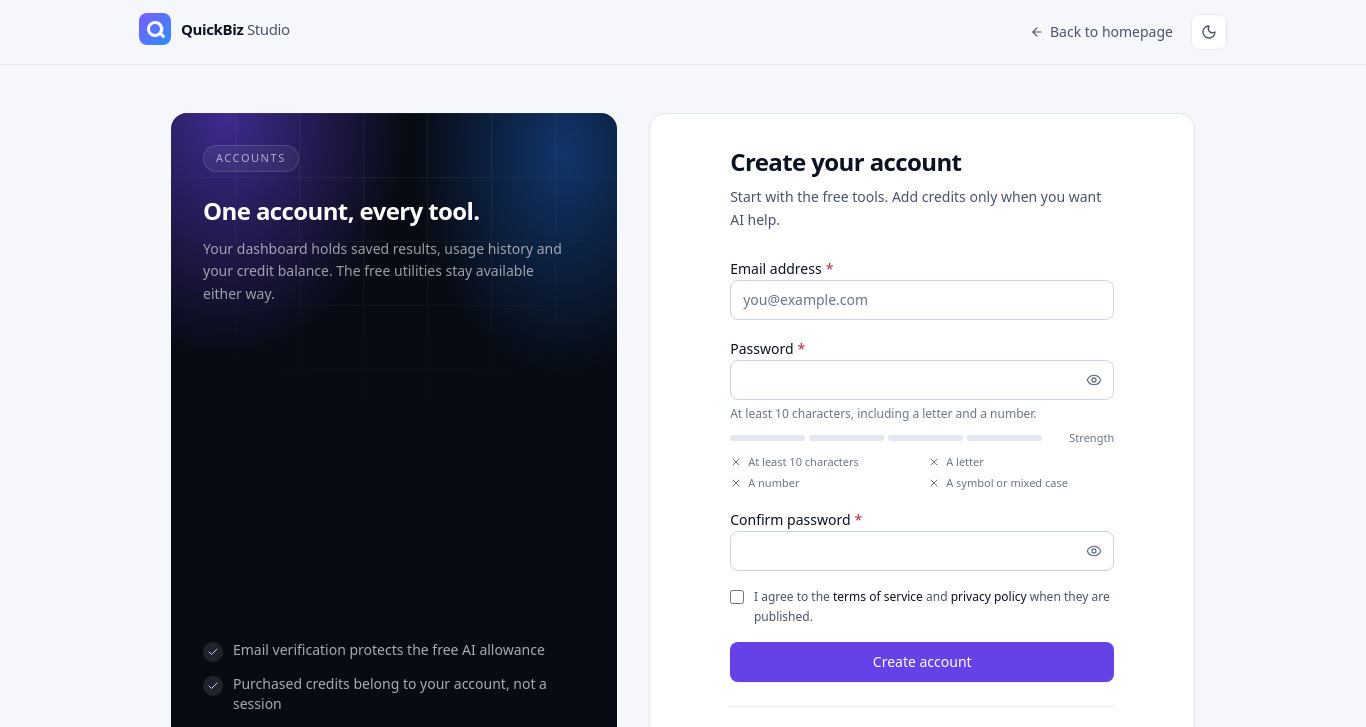
Test: RegisterPage › shows a typed failure when the provider rejects the signup
In the field labelled "Email address*": coordinates (922, 300) [730,280,1114,320], type "  Ada@Example.com "
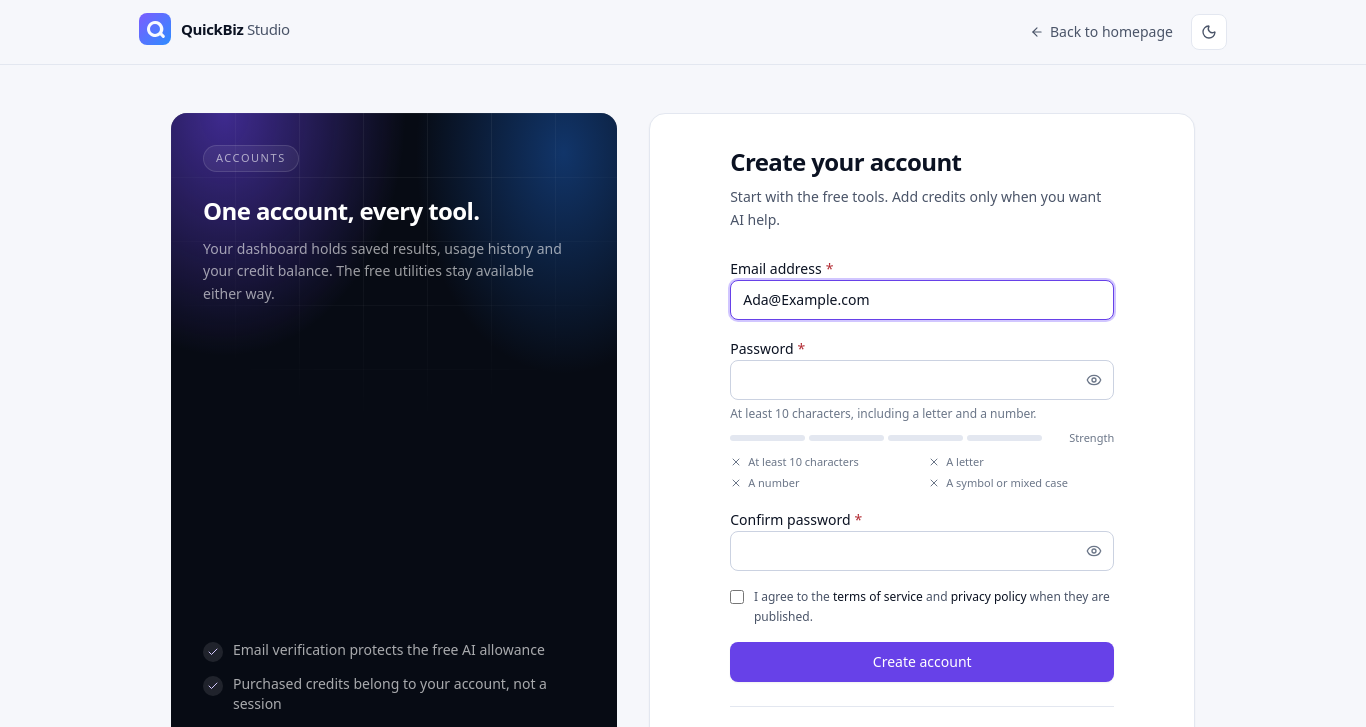
In the password field labelled "Password*": coordinates (922, 380) [730,360,1114,400], type "correct-horse-1"
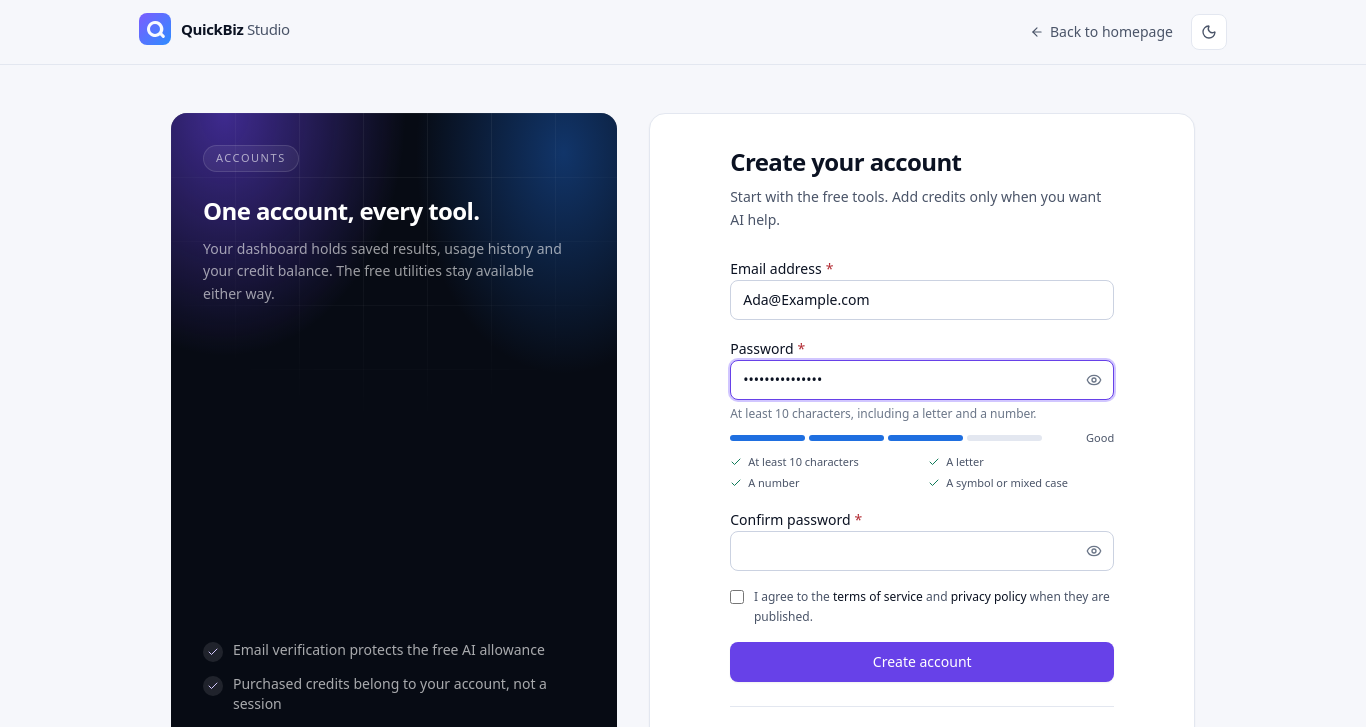
In the password field labelled "Confirm password*": coordinates (922, 551) [730,531,1114,571], type "correct-horse-1"
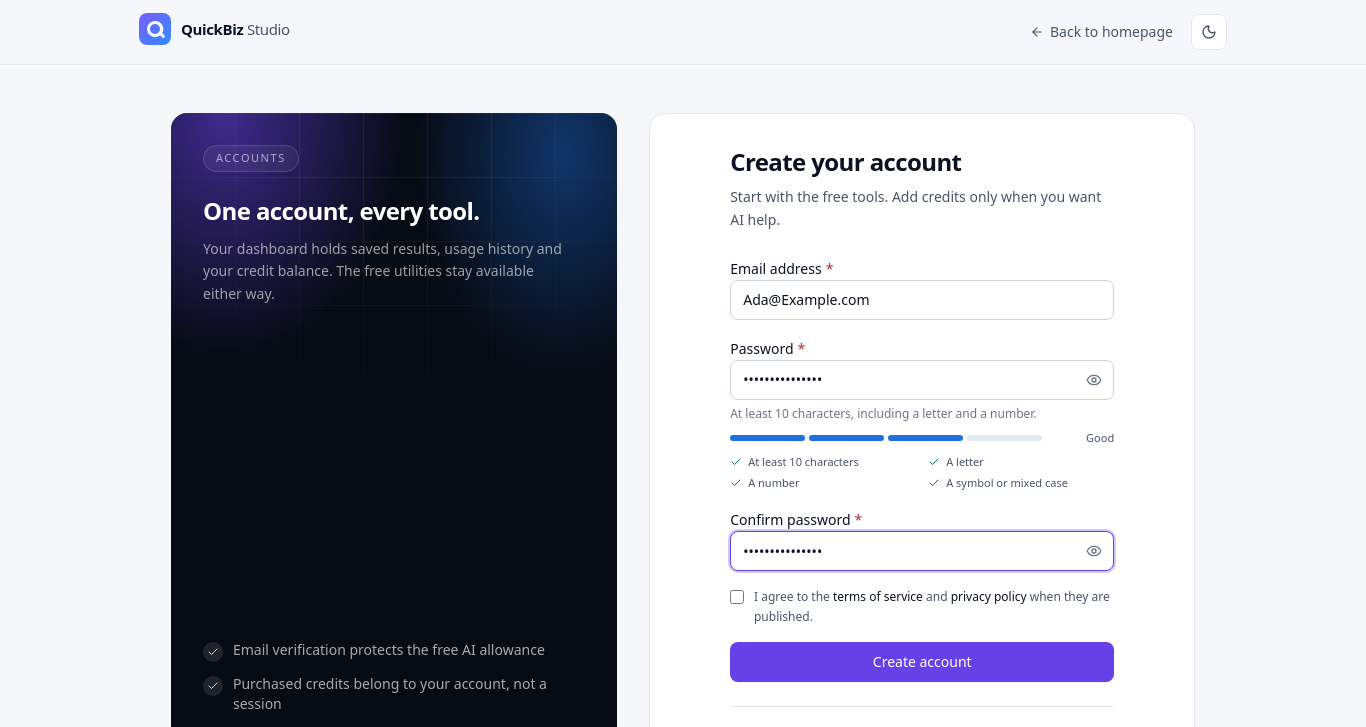
Click the checkbox: coordinates (737, 597) [730,589,744,605]
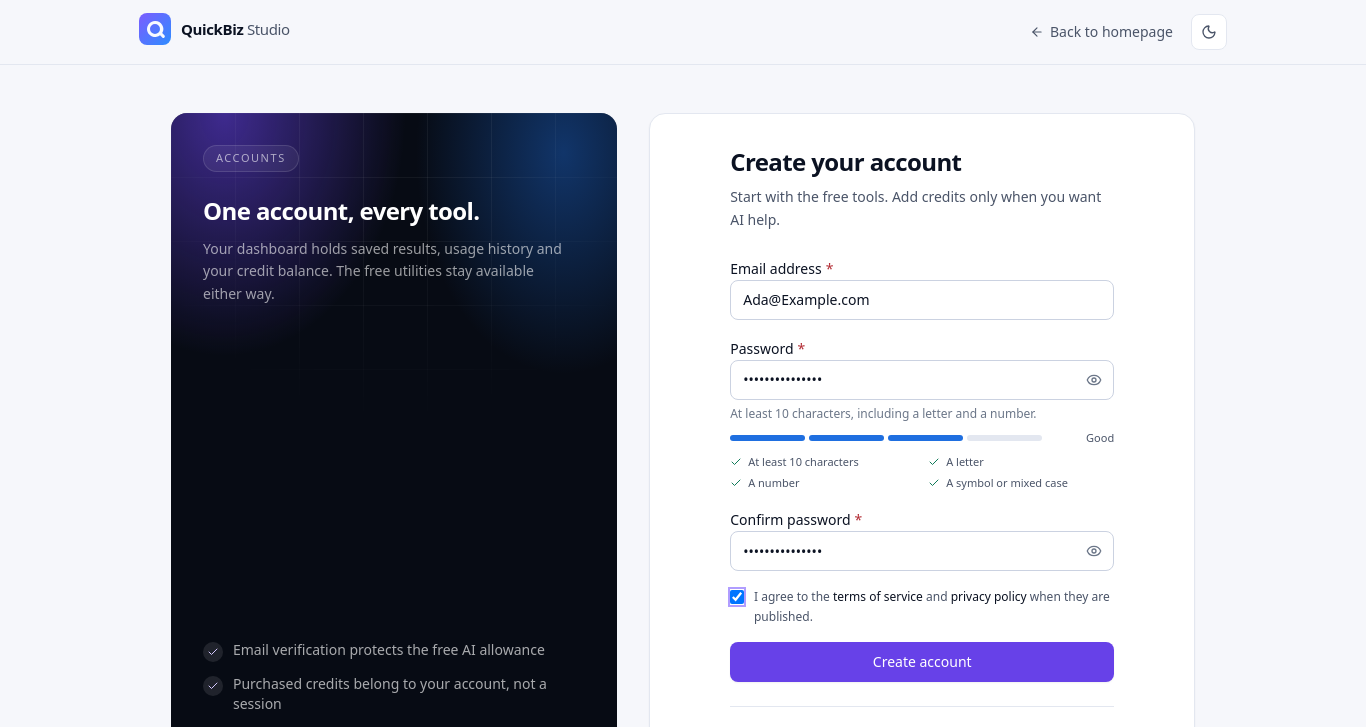
Click the button "Create account": coordinates (922, 662) [730,642,1114,682]
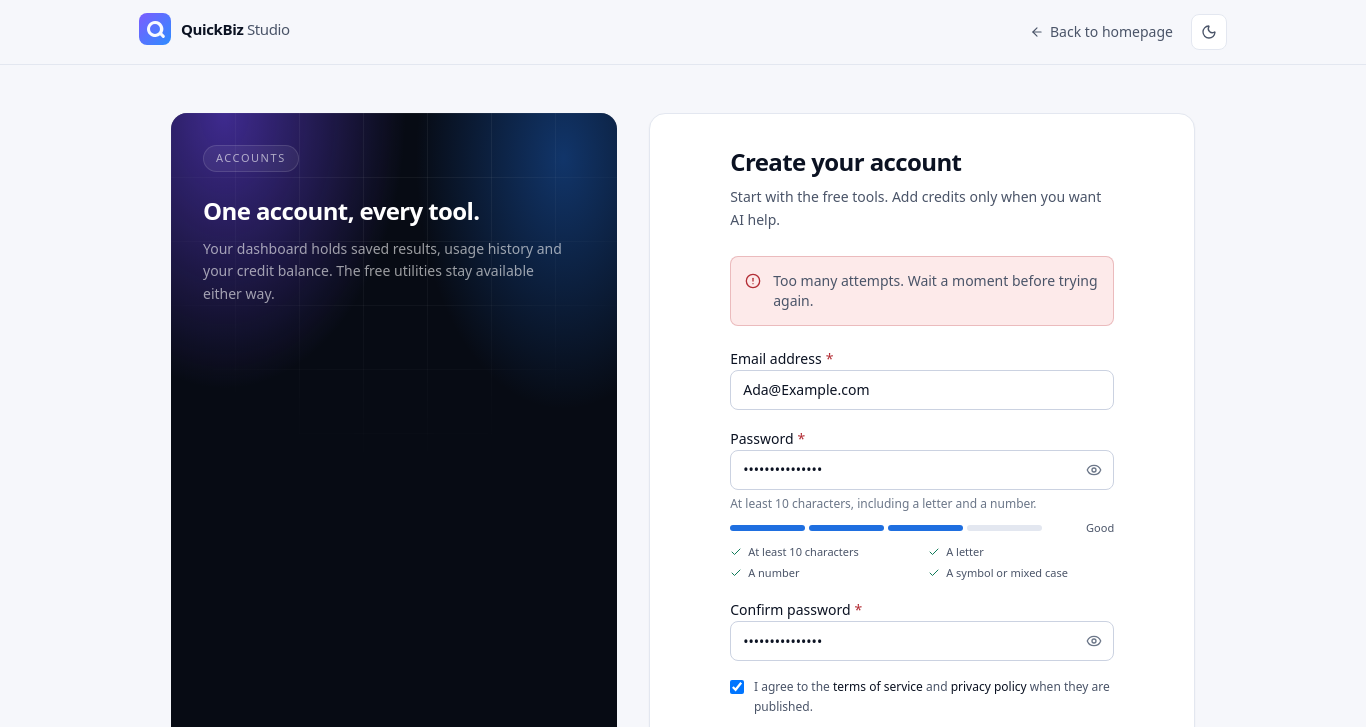
Check: the text "Too many attempts. Wait a moment before trying again." is shown, box [773,270,1099,310]
